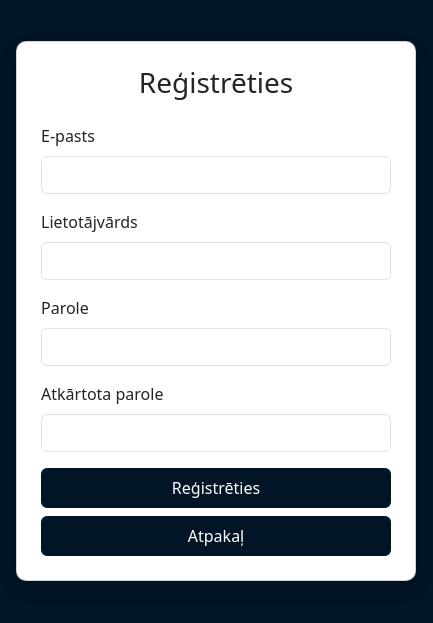
Register › [LM1_T3] ERR3 - Parolei jābūt 8-64 simbolu garai
Type "valid@email.com" into the field named "email" at (216, 175), box [41, 156, 391, 194]
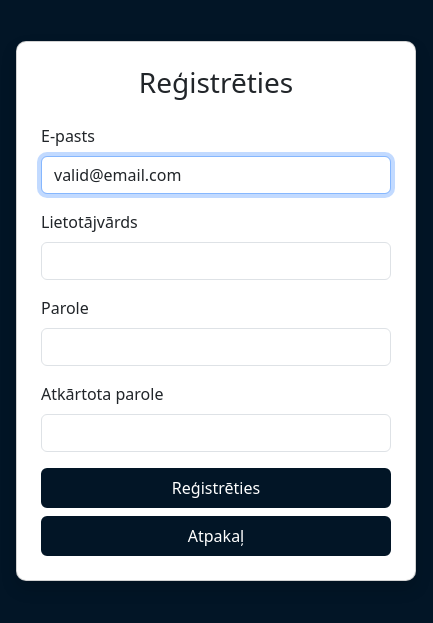
Type "validuser" into the field named "username" at (216, 261), box [41, 242, 391, 280]
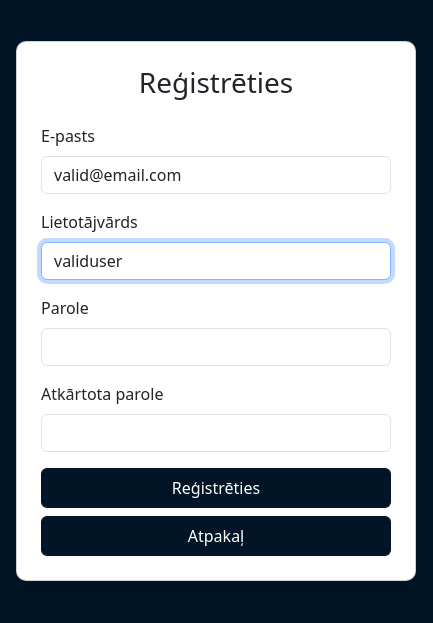
Type "short" into the password field named "password" at (216, 347), box [41, 328, 391, 366]
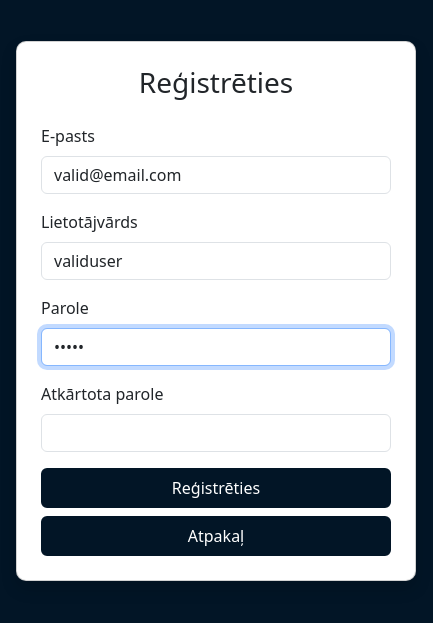
Type "short" into the password field named "repeatPassword" at (216, 433), box [41, 414, 391, 452]
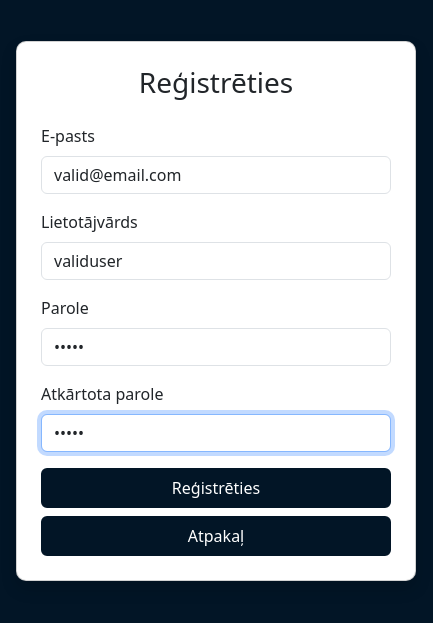
Click the submit button at (216, 488), box [41, 468, 391, 508]
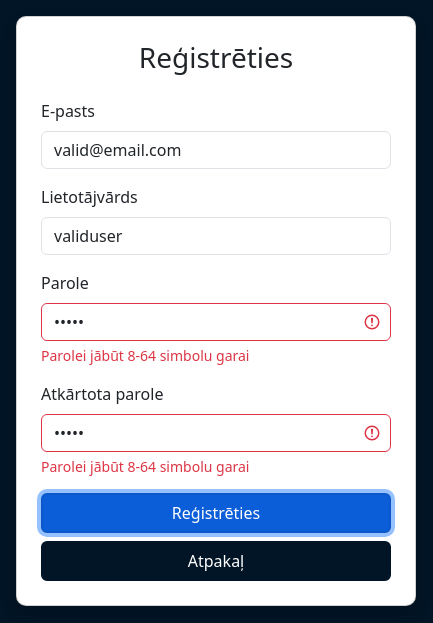
Expected: the 1st text with class "invalid-feedback" reads "Parolei jābūt 8-64 simbolu garai", [41, 346, 249, 365]
